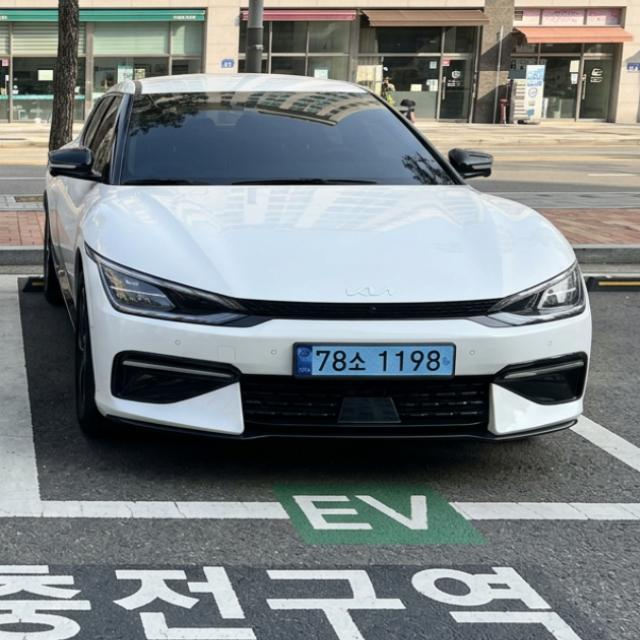car: (282, 335, 473, 390)
carev: (294, 340, 315, 378), (439, 343, 455, 381)
